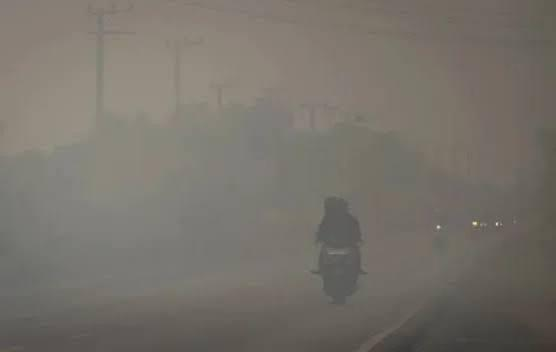Deteksi-Objek-Citra-Berasap: (0, 0, 556, 352)
Kendaraan: (311, 235, 367, 305), (464, 195, 508, 242), (422, 206, 456, 258)
Manusia: (315, 196, 363, 257)
